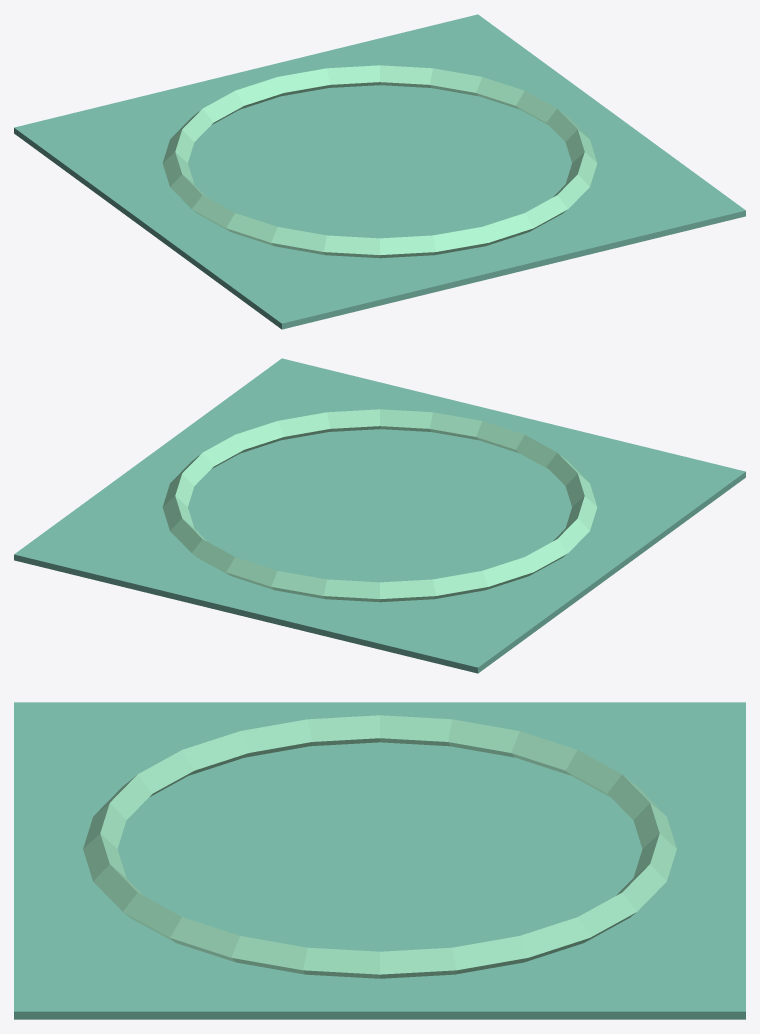
Rendered from brillo_losa.glb.
3 renders of one model, top to bottom at view 1: azimuth 30°, elevation 25°; view 2: azimuth 150°, elevation 25°; view 3: azimuth 270°, elevation 25°, orthographic. The views are drawn at different scales.
Parts seen in each view (by area): view 1: brillo_losa; view 2: brillo_losa; view 3: brillo_losa.
Part boxes in pixels (x1,y1,x2,y2): brillo_losa: [14, 14, 745, 329]; brillo_losa: [14, 358, 745, 673]; brillo_losa: [14, 702, 745, 1019].
Size of the model in its own units: 1.23 by 0.0585 by 1.23.
